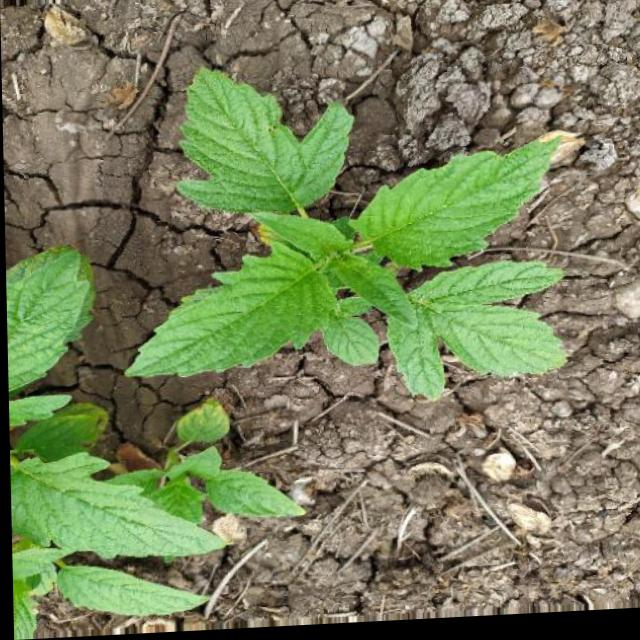crop: (115, 43, 584, 433)
